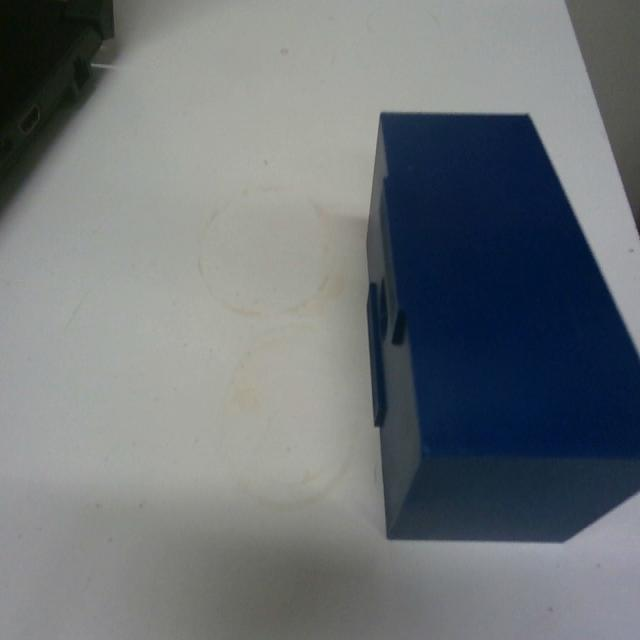Blue Cuboid: (362, 105, 639, 544)
